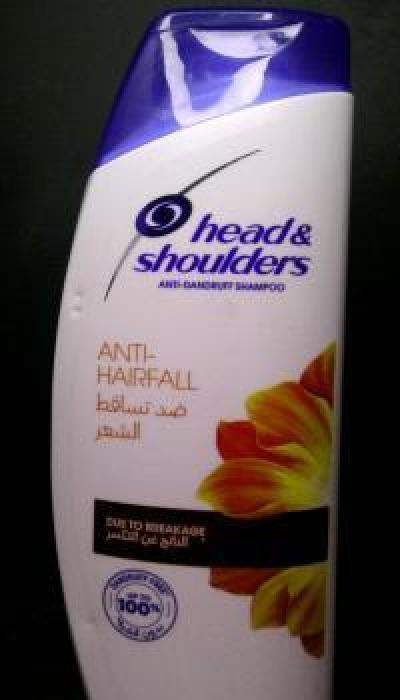dent_marg: (63, 300, 87, 322), (78, 613, 100, 635), (69, 282, 89, 304)
